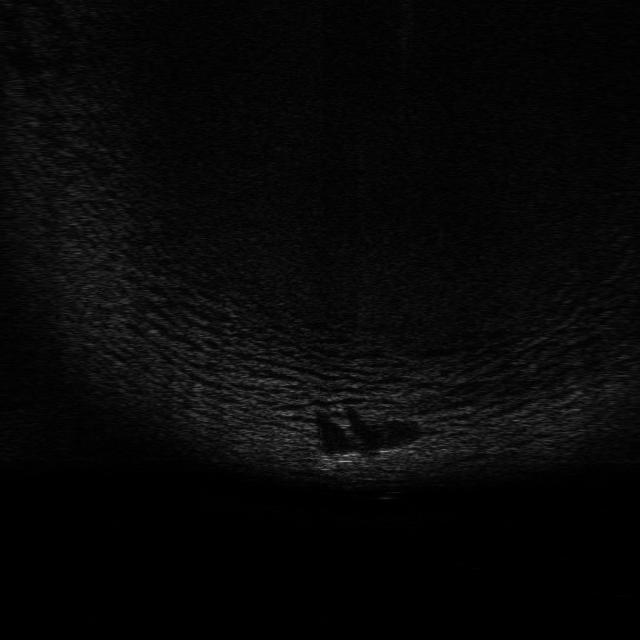plane: (314, 444, 398, 472)
